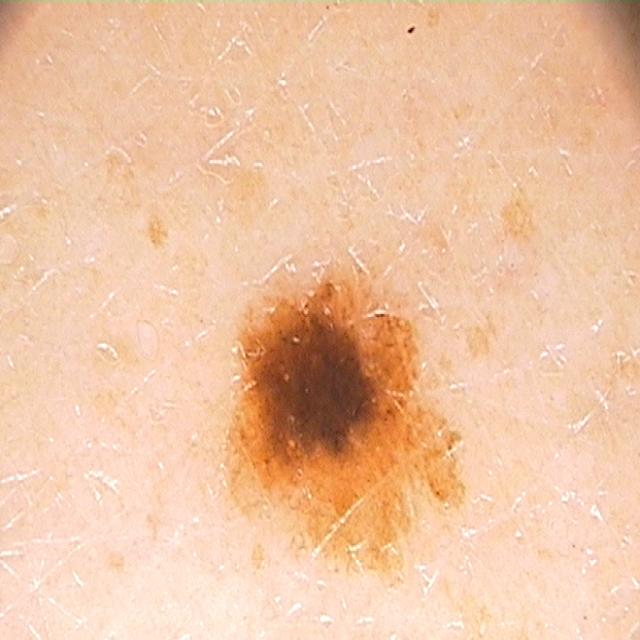Melanoma: (211, 246, 518, 588)
